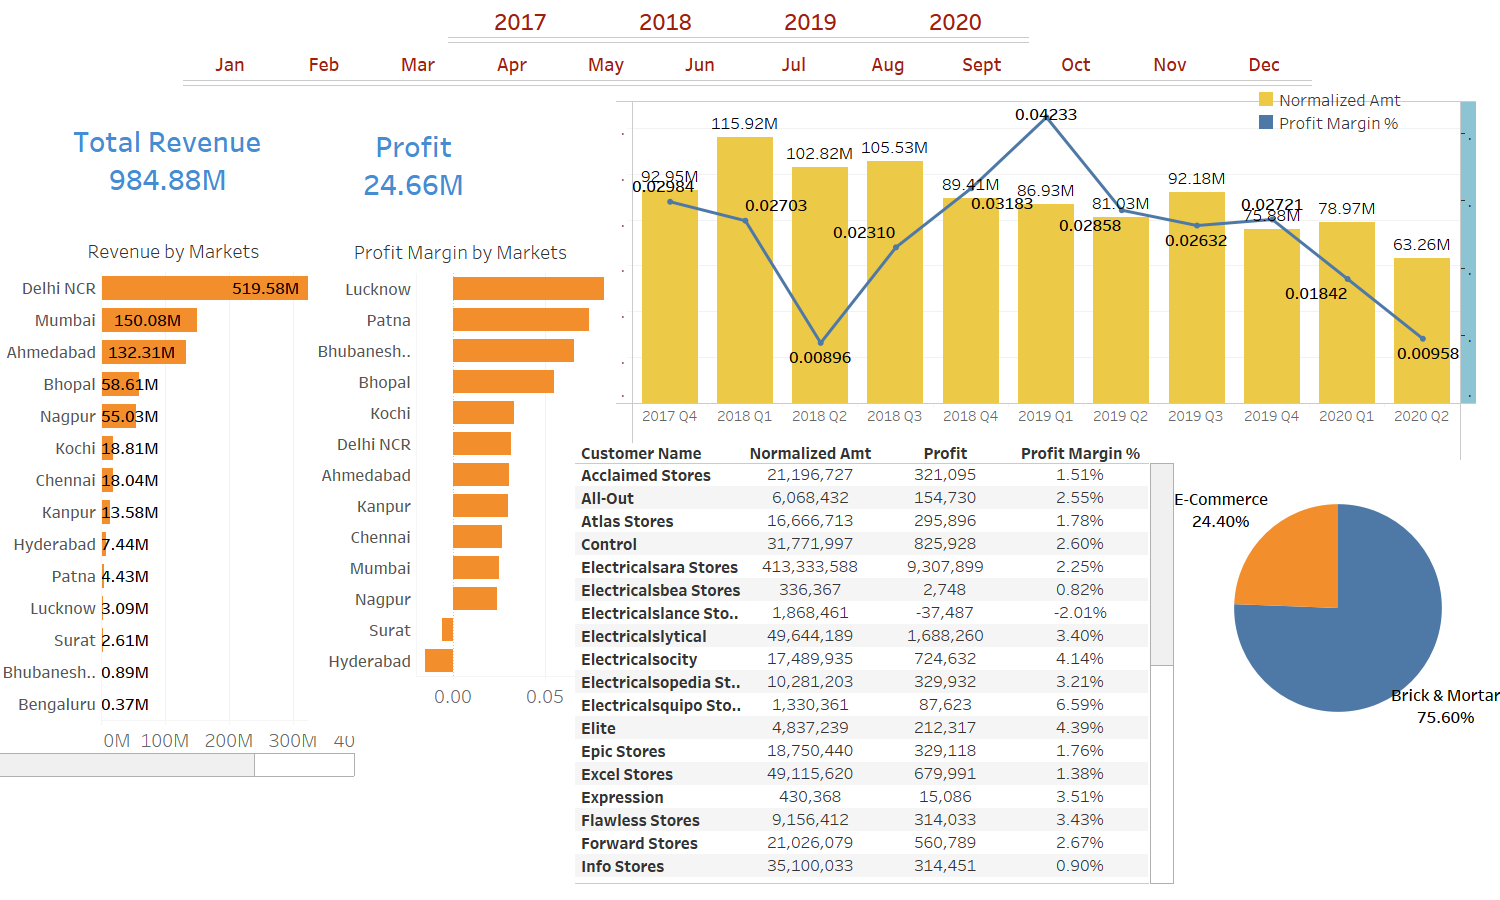

What the dashboard file says about the page in this screenshot:
{"tool":"tableau","page":{"name":"Dashboard - Profit Analysis","canvas":[1500,900],"ordinal":0},"visuals":[{"type":"worksheet","title":"Month","mark":"Automatic","cols":["cy_date"],"box":[183,33,1188,247]},{"type":"worksheet","title":"Profit Trend","mark":"Bar","rows":["Calculation_1688286974649286658","Calculation_1688286974790397963"],"cols":["cy_date"],"box":[616,86,861,375]},{"type":"legend","title":"Profit Trend","param":"[federated.09l99i70x1ok9q1ce2a4u160jovk].[:Measure Names]","box":[1255,88,200,76]},{"type":"worksheet","title":"Profit","mark":"Automatic","box":[354,112,153,247]},{"type":"worksheet","title":"Revenue","mark":"Automatic","box":[68,122,228,123]},{"type":"worksheet","title":"Profit Margin by Markets","mark":"Automatic","rows":["markets_name"],"cols":["Calculation_1688286974790397963"],"box":[308,233,305,555]},{"type":"worksheet","title":"Customer Table","mark":"Automatic","rows":["custmer_name"],"box":[575,428,606,456]},{"type":"worksheet","title":"Sheet 14","mark":"Pie","box":[1174,455,328,291]}]}

Visuals, with their boxes in screenshot pixels (x1, y1, x2, y2), scaled from the page's 1500x900 canvas onto the 1500x900 screenshot:
"Month" worksheet: (left=183, top=33, right=1371, bottom=280)
"Profit Trend" worksheet (Bar marks): (left=616, top=86, right=1477, bottom=461)
"Profit Trend" legend: (left=1255, top=88, right=1455, bottom=164)
"Profit" worksheet: (left=354, top=112, right=507, bottom=359)
"Revenue" worksheet: (left=68, top=122, right=296, bottom=245)
"Profit Margin by Markets" worksheet: (left=308, top=233, right=613, bottom=788)
"Customer Table" worksheet: (left=575, top=428, right=1181, bottom=884)
"Sheet 14" worksheet (Pie marks): (left=1174, top=455, right=1499, bottom=746)
